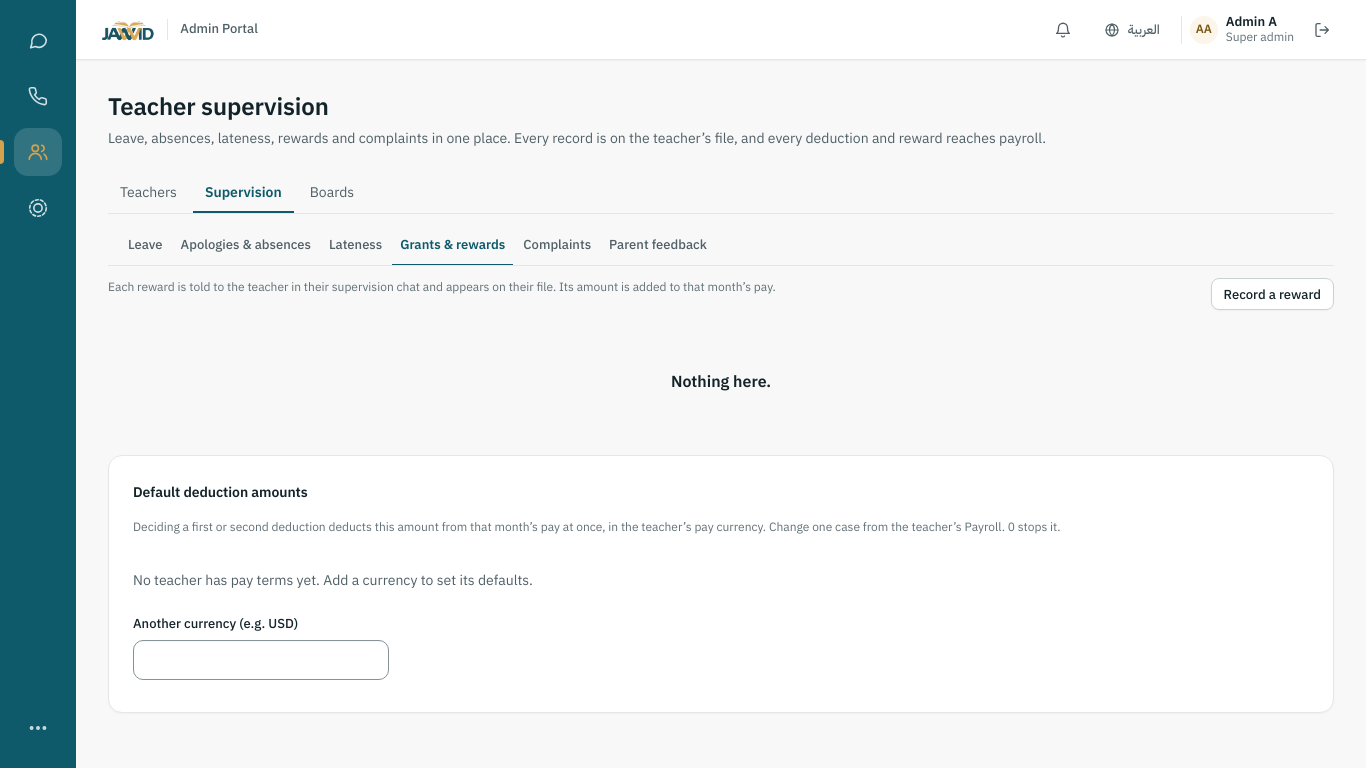
Test: 4. grants and rewards › a refused amount records nothing, and says so
Click the button "Record a reward".
click(1272, 294)  # box [1211, 278, 1334, 310]
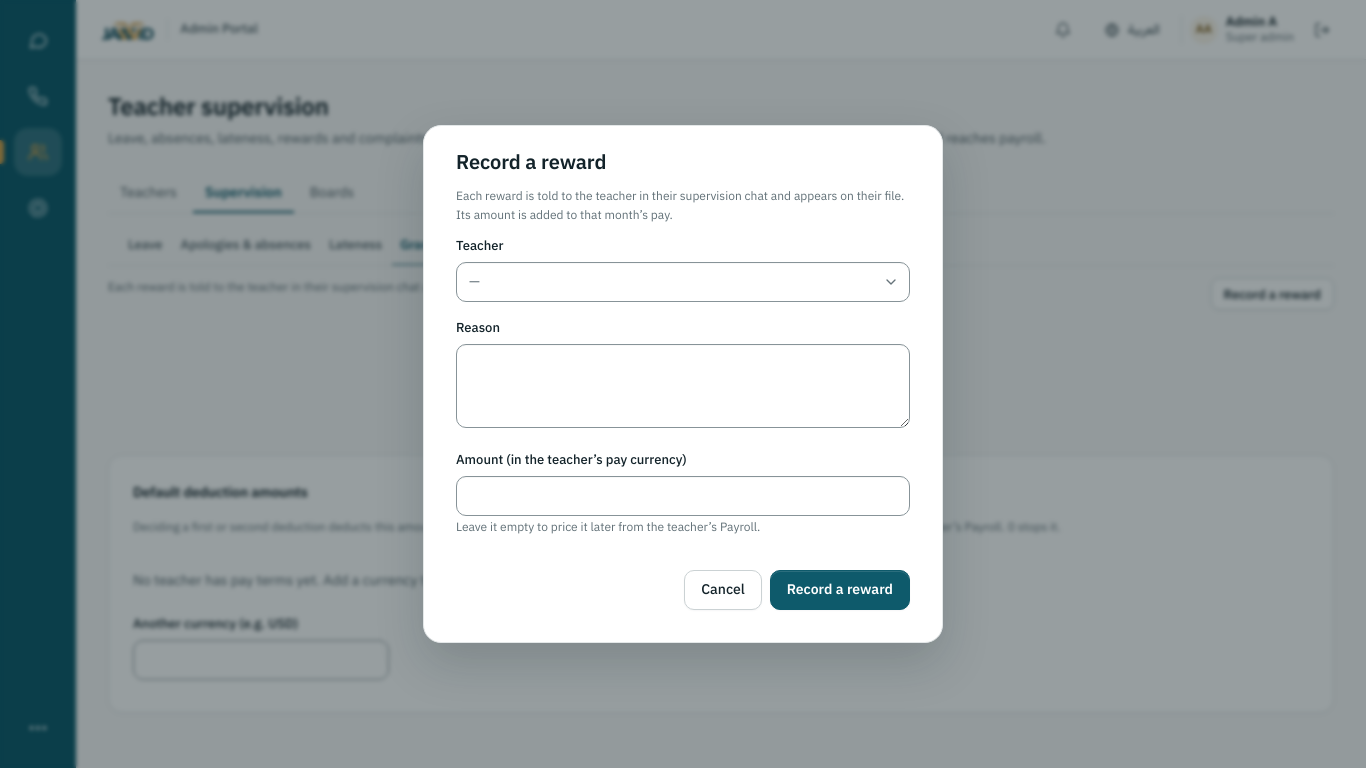
Click the dropdown labelled "Teacher".
click(683, 282)  # box [456, 262, 910, 302]
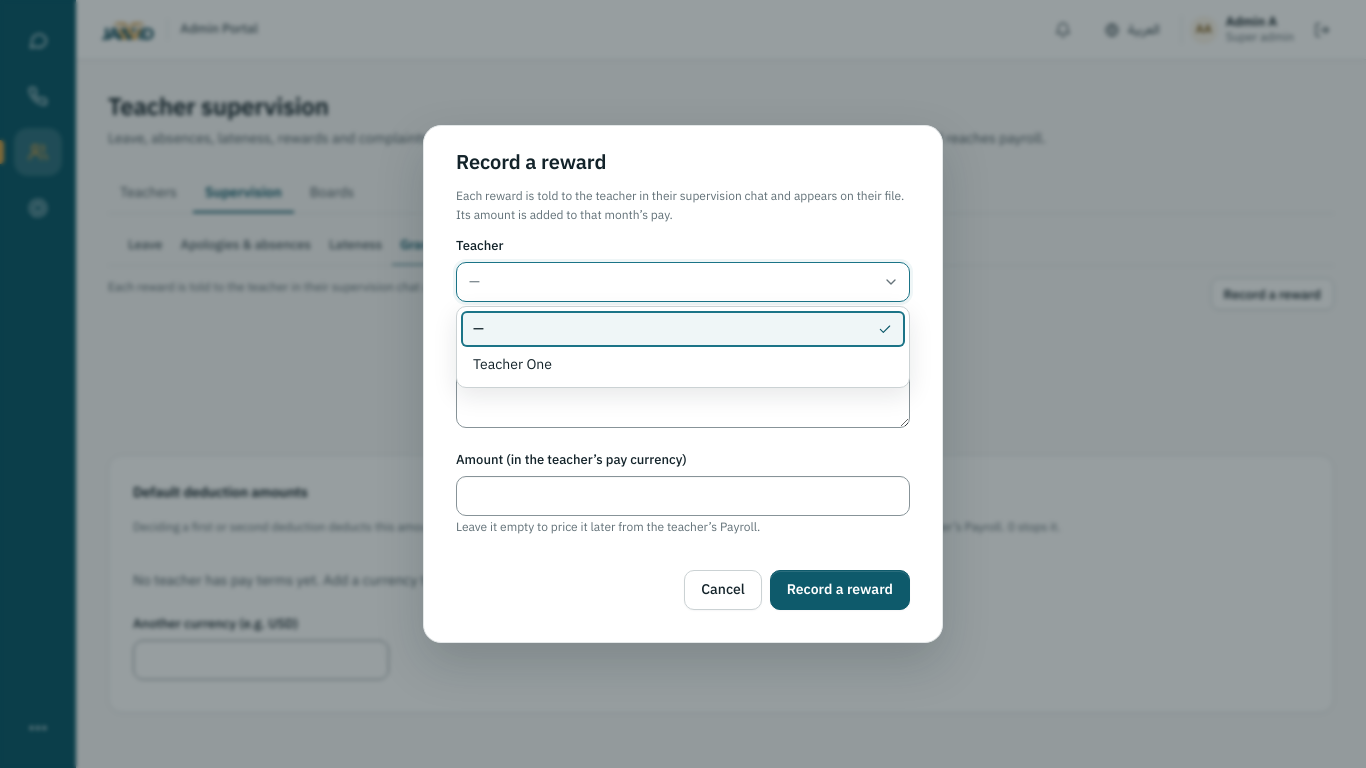
Click the option "Teacher One".
click(512, 365)  # box [473, 354, 552, 376]
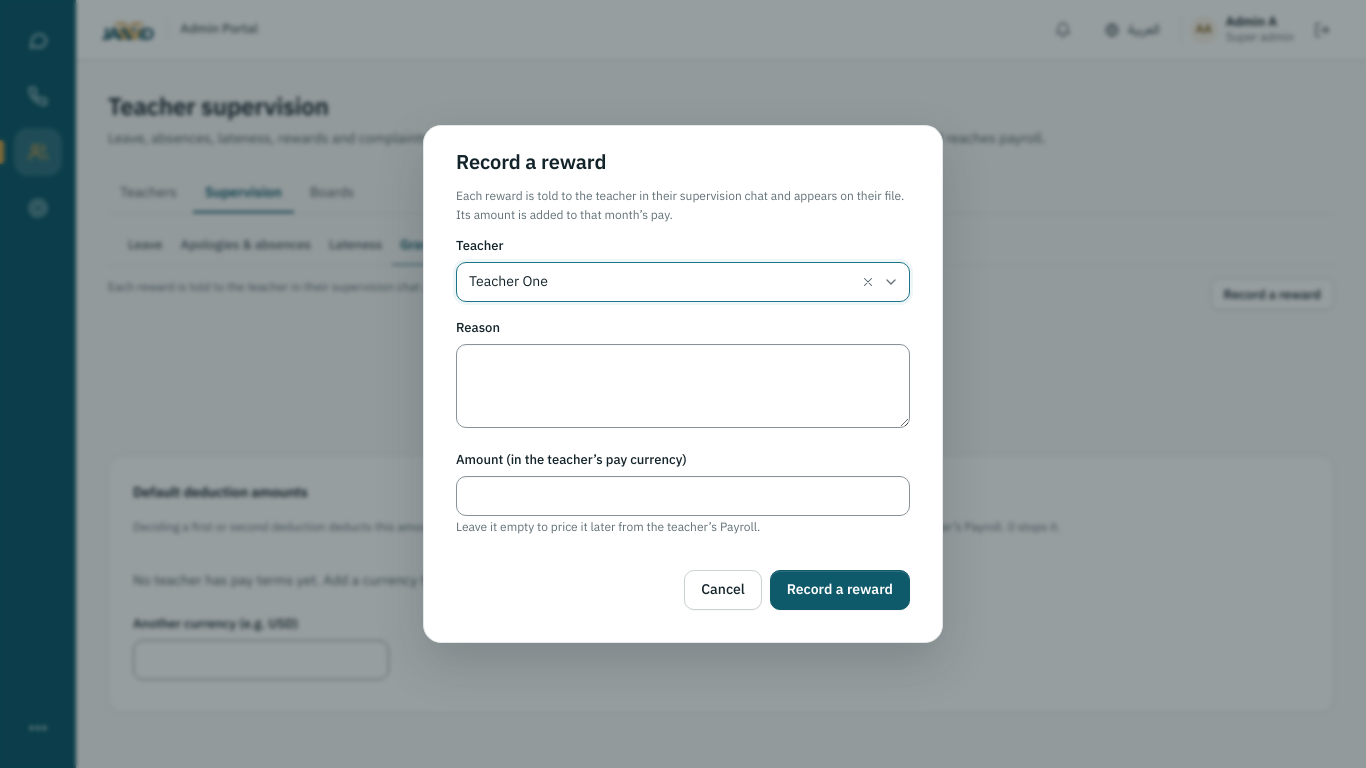
Type "Helped a new teacher" into the text box labelled "Reason".
click(683, 386); type("Helped a new teacher")  # box [456, 344, 910, 428]
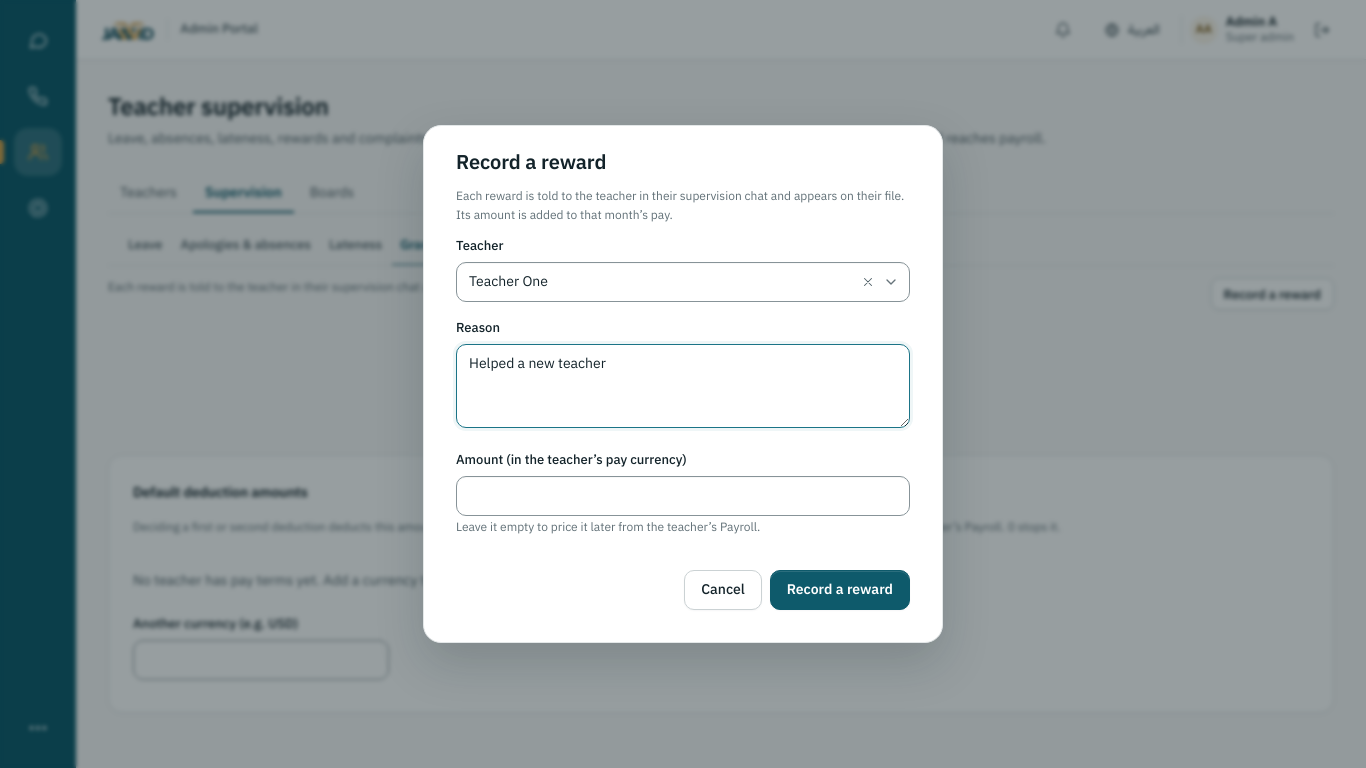
Type "250" into the field labelled "Amount (in the teacher’s pay currency)".
click(683, 496); type("250")  # box [456, 476, 910, 516]
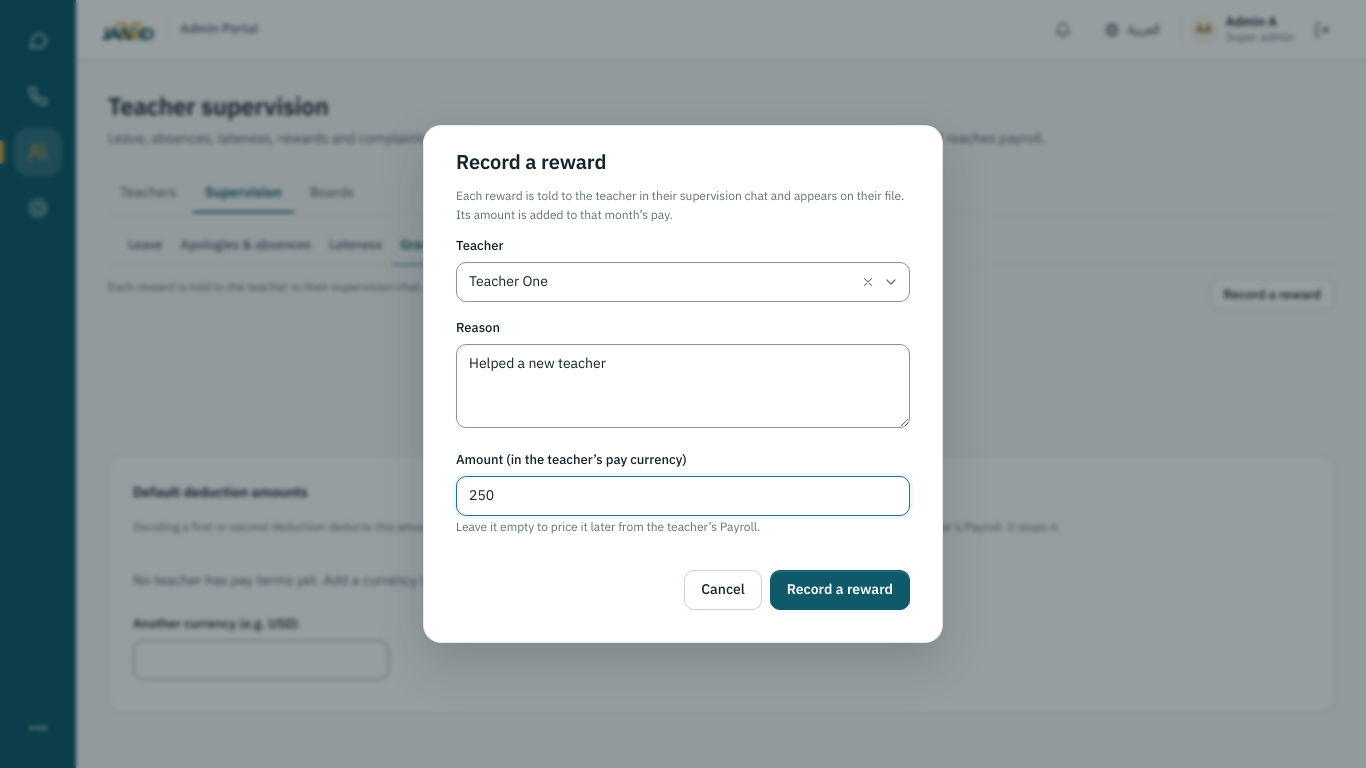
Click the button "Record a reward".
click(840, 590)  # box [770, 570, 910, 610]
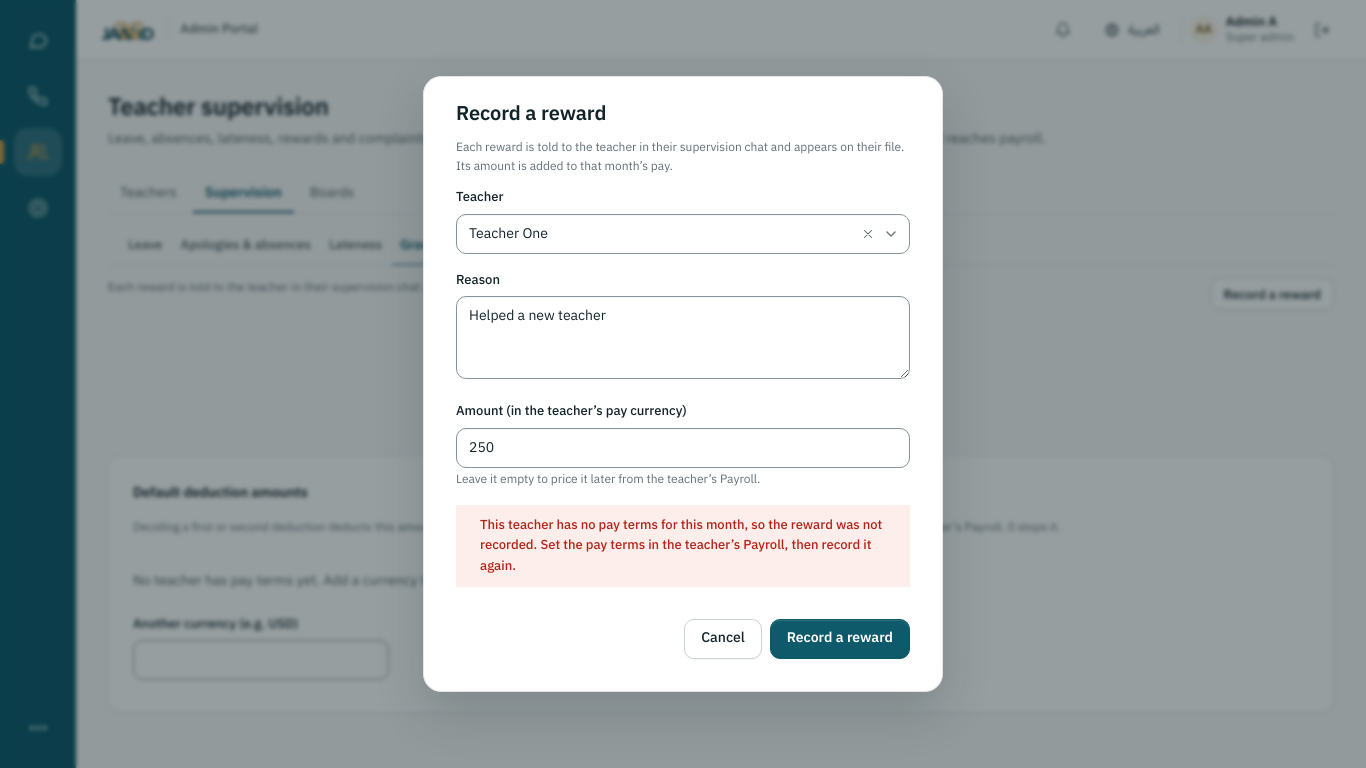
Now the message shows "no pay terms for this month, so the reward was not recorded", box [480, 515, 882, 575]
